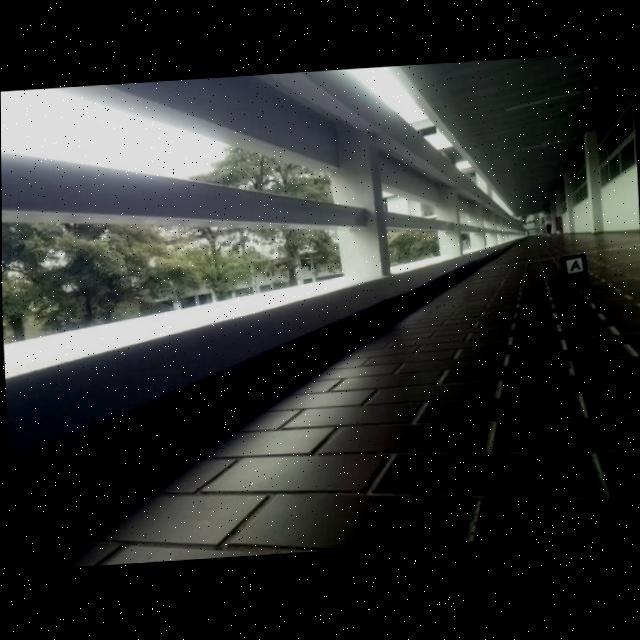A: (570, 263, 580, 274)
